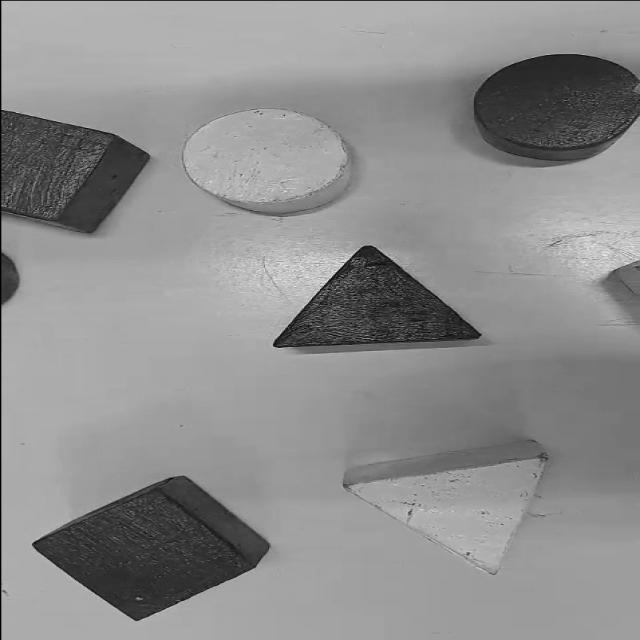bcube: (31, 474, 270, 619)
btriangle: (274, 244, 486, 348)
rcircle: (473, 55, 639, 161)
rcube: (0, 108, 154, 234)
ycircle: (183, 108, 352, 215)
ytriangle: (340, 438, 550, 572)
